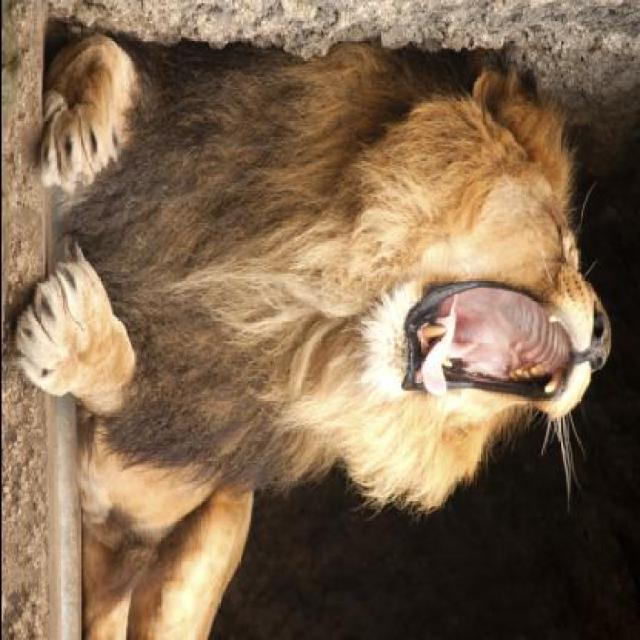Lion: (1, 2, 632, 624)
